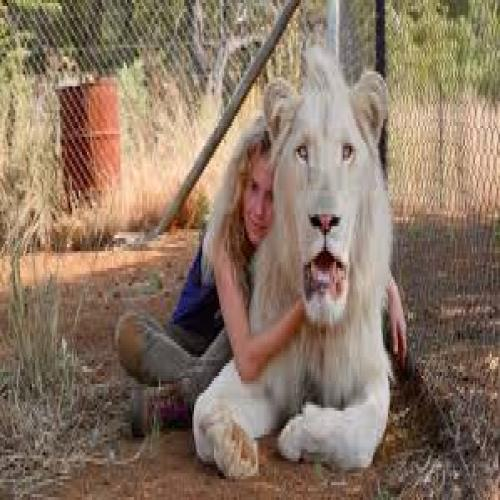lion-endangered: (191, 53, 392, 470)
